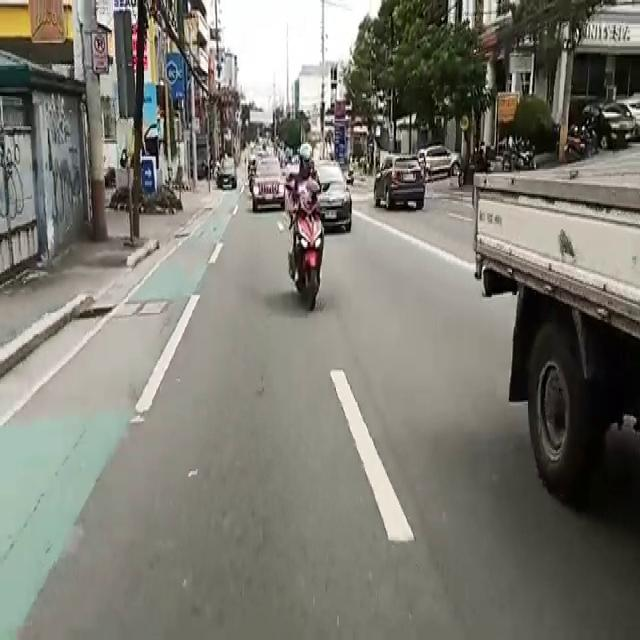car: (375, 154, 429, 217), (576, 97, 638, 151), (322, 156, 356, 230), (250, 163, 284, 217), (414, 143, 462, 176), (215, 152, 237, 190)
motorcycle: (288, 146, 324, 314)
truck: (485, 143, 640, 493)
